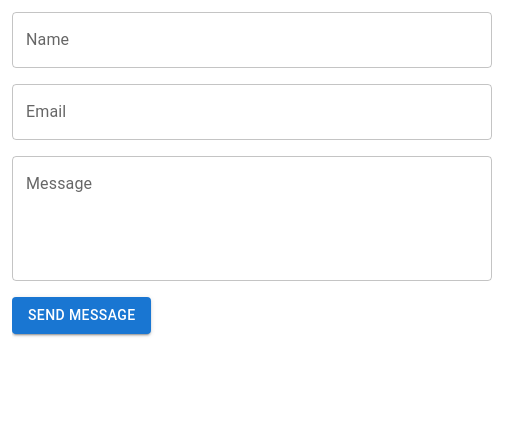
Test: shows field-level errors and focuses the first invalid field on empty submit
The width and height of the screenshot is (509, 422).
Click the button "Send message" at (82,315), box top-left (12, 297), bottom-right (152, 334)
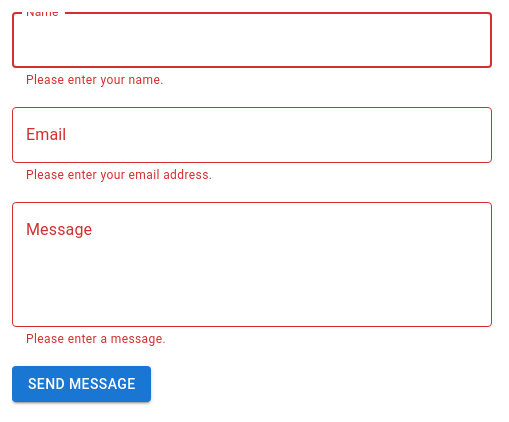
Check: the text "Please enter your name." is shown, box top-left (26, 73), bottom-right (164, 87)
Check: the text "Please enter your email address." is shown, box top-left (26, 168), bottom-right (212, 182)
Check: the text "Please enter a message." is shown, box top-left (26, 332), bottom-right (166, 346)
